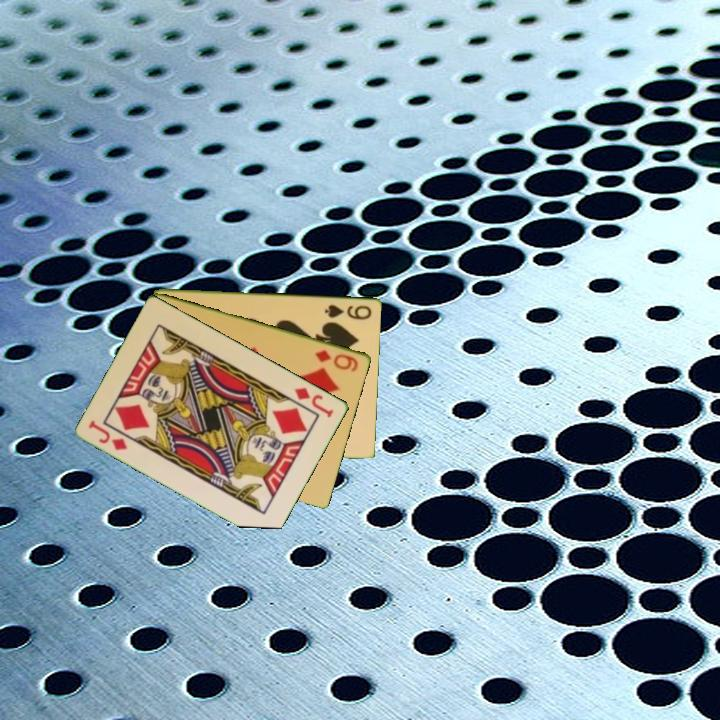6d: (312, 346, 361, 374)
9s: (321, 301, 375, 322)
Jd: (291, 383, 337, 420), (85, 417, 131, 453)
